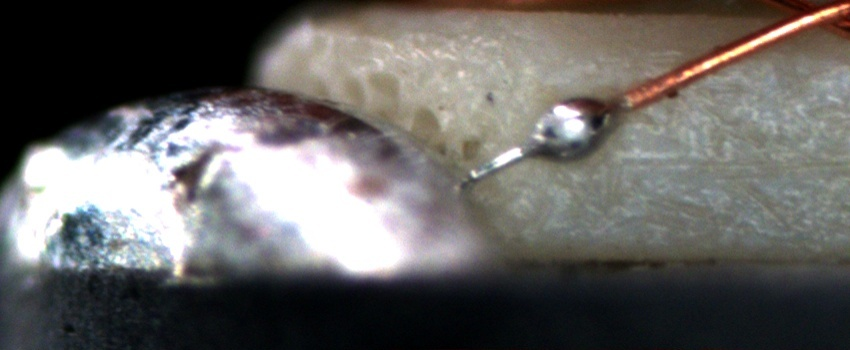CL: (762, 0, 847, 40)
DL: (556, 127, 850, 191), (530, 44, 850, 100)
TB: (532, 92, 623, 169)
TS: (462, 97, 626, 183)
TTCW: (465, 67, 687, 183)
